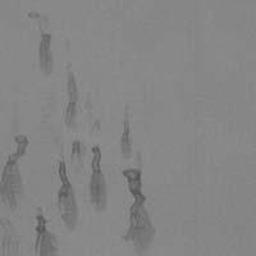Water spot: (56, 137, 109, 232), (118, 151, 157, 256), (0, 133, 29, 256), (64, 63, 101, 138), (27, 10, 55, 78), (32, 205, 60, 256), (119, 104, 133, 160)
